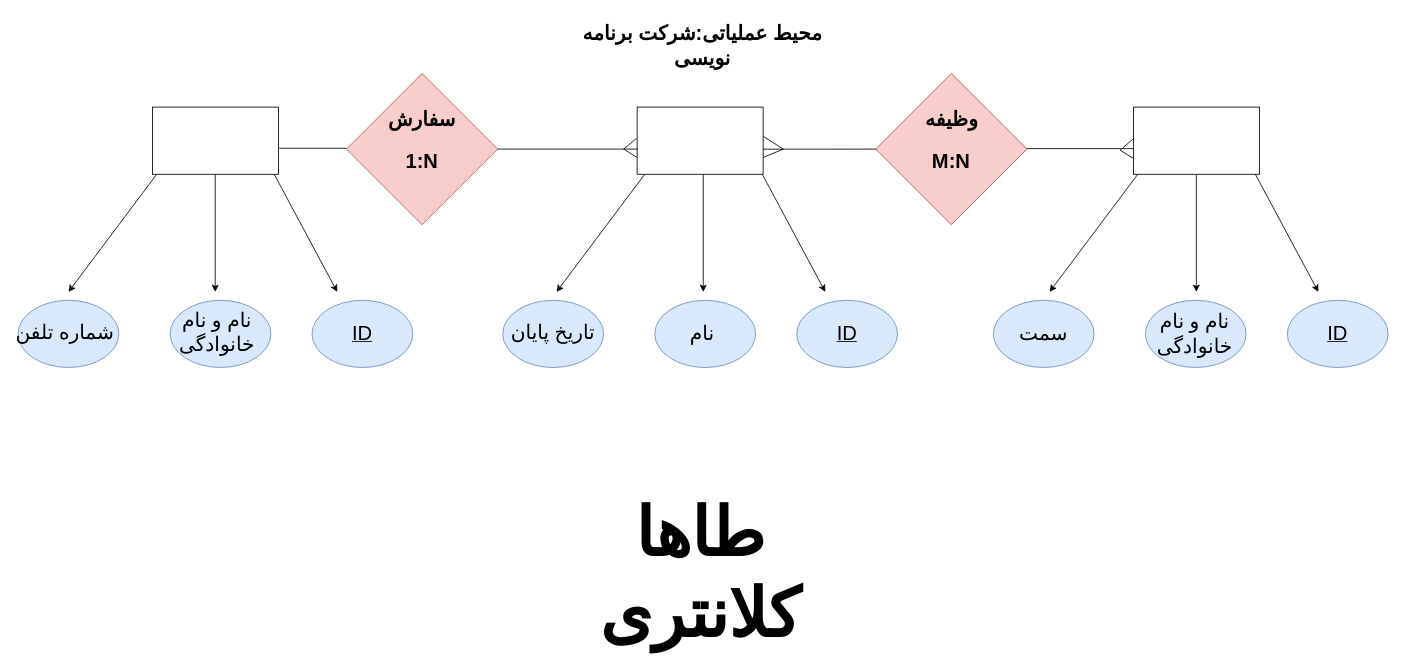
Some shapes in this 1403 by 668 pixel diagram are drawn without their labels. The centre of each missing label's shape, as x and y in pixels:
كارمند: [1196,140]
مشتري: [215,140]
پروژه: [699,140]
